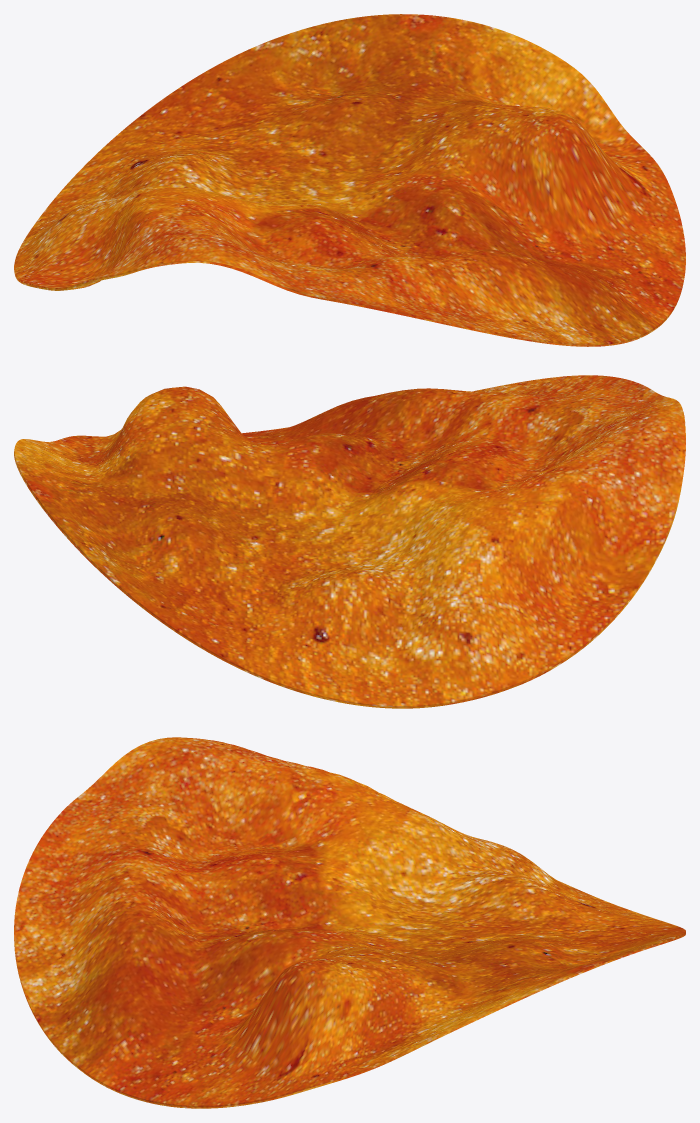
The model's file is chip_textured.gltf.
The picture shows the model from 3 angles, top to bottom: view 1: azimuth 30°, elevation 25°; view 2: azimuth 150°, elevation 25°; view 3: azimuth 270°, elevation 25°; orthographic projection.
Parts seen in each view (by area): view 1: Circle; view 2: Circle; view 3: Circle.
Part boxes in pixels (box(x1,y1,x2,y2)): Circle: box(14, 14, 685, 346); Circle: box(14, 375, 685, 708); Circle: box(14, 737, 685, 1108).
Bounding box in the file's own units: 1.98 × 0.4694 × 2.
1 material, 1 textured.
